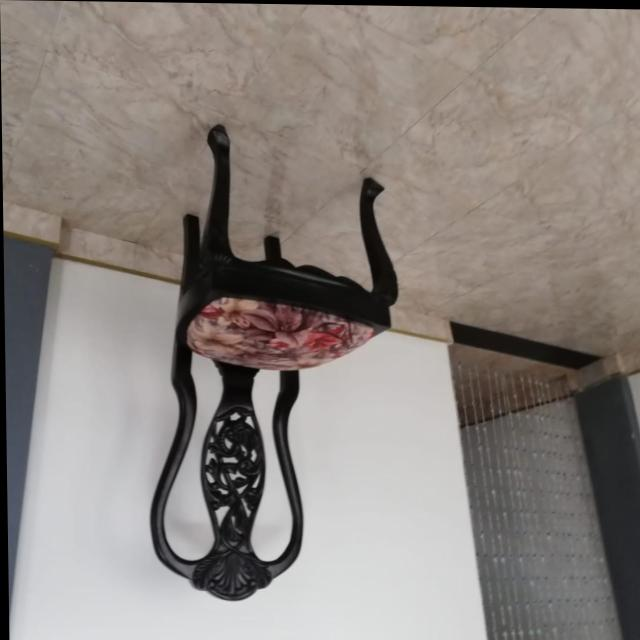Chair: (142, 125, 401, 604)
